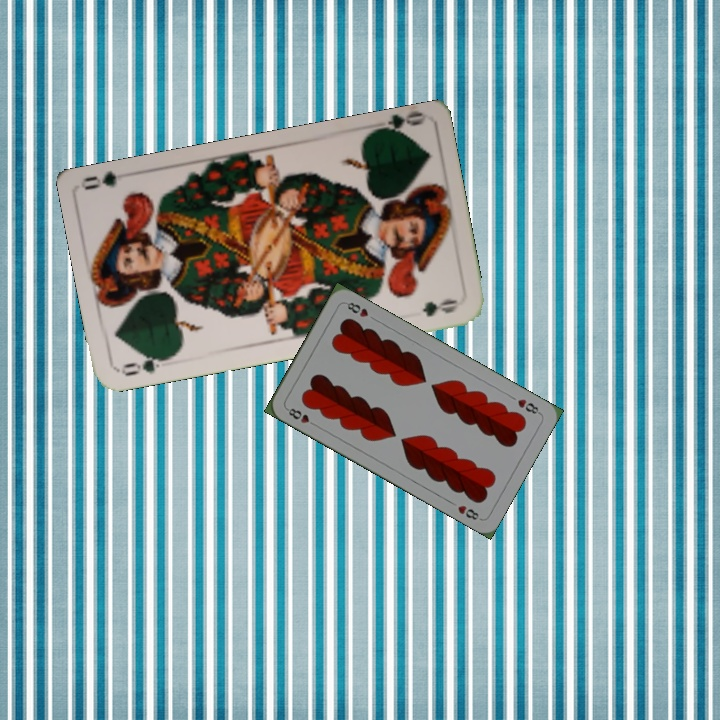GO: (367, 110, 425, 140), (117, 351, 174, 379)
H8: (282, 404, 320, 429), (513, 395, 543, 417)
